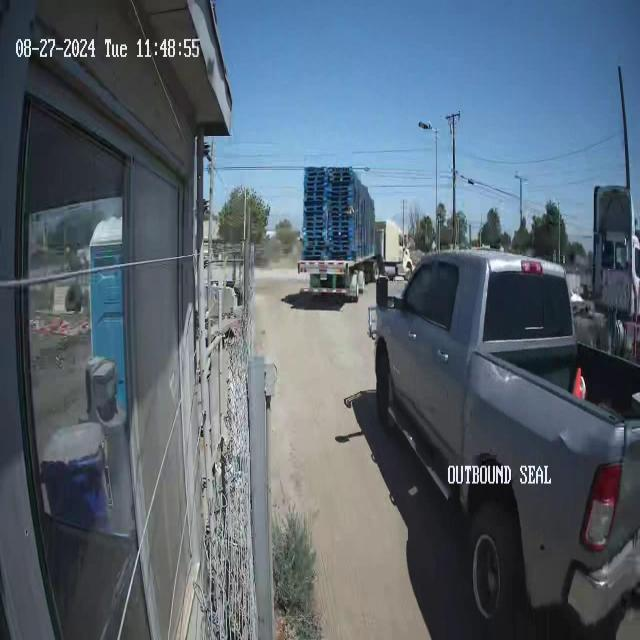TRUCK_OUT: (298, 155, 408, 305)
